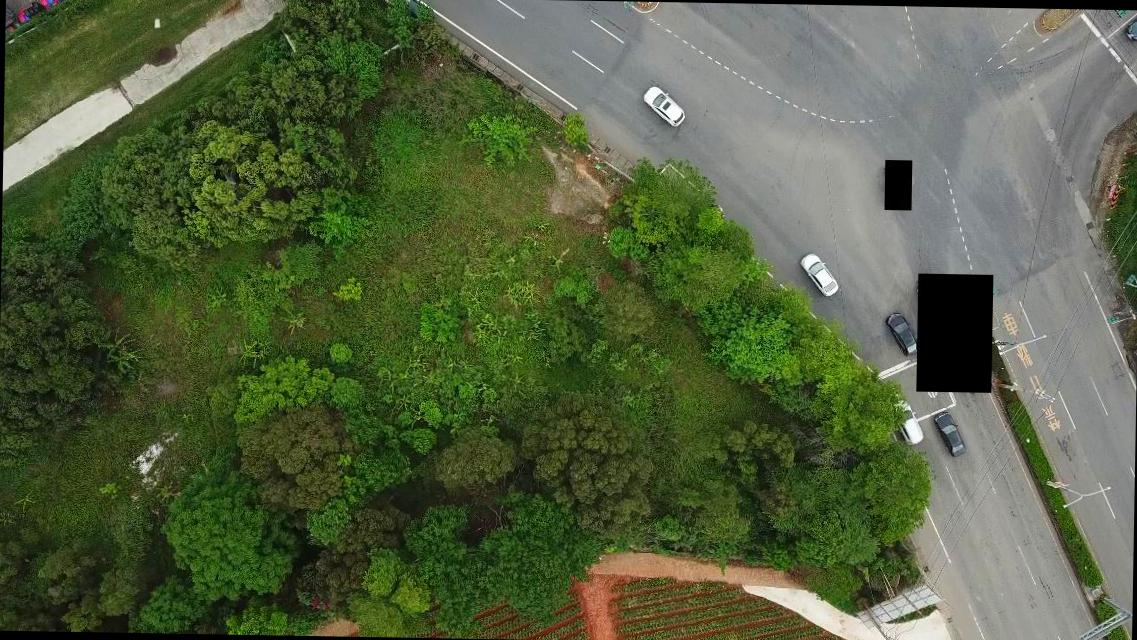vehicle: (796, 252, 840, 299), (642, 85, 686, 129), (888, 398, 924, 444), (886, 310, 922, 356), (934, 414, 970, 458)
